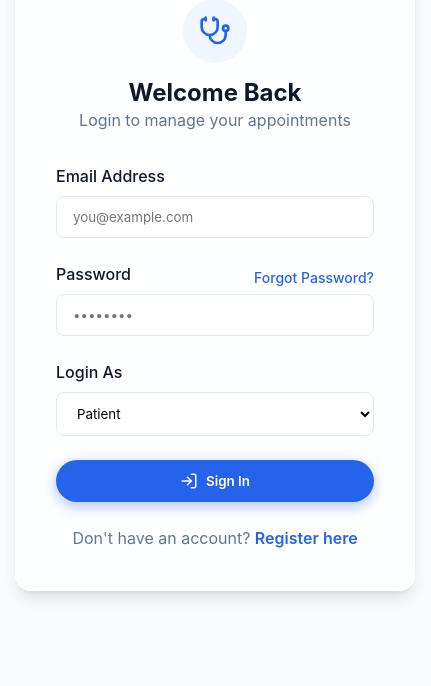
Login page › shows API error messaging for failed login attempts
The image size is (431, 686).
Type "patient@example.com" into the field with placeholder "you@example.com".
click(215, 217); type("patient@example.com")  # box [56,196,374,238]
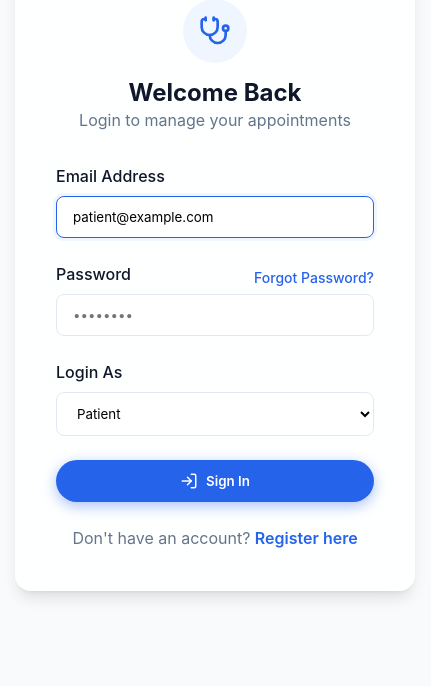
Type "wrong-pass" into the password field with placeholder "••••••••".
click(215, 315); type("wrong-pass")  # box [56,294,374,336]
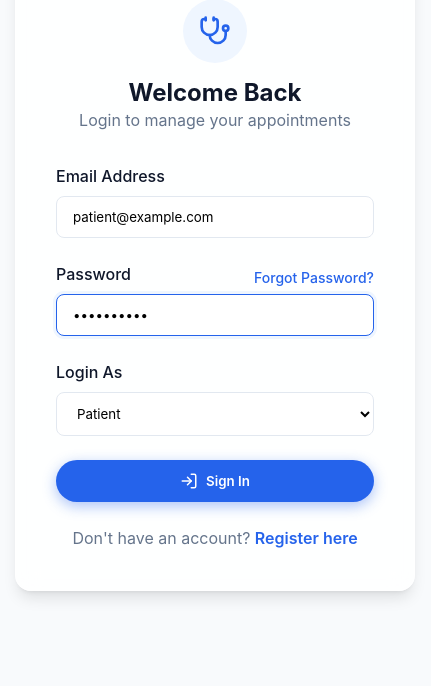
Click the button "Sign In".
click(215, 481)  # box [56,460,374,502]
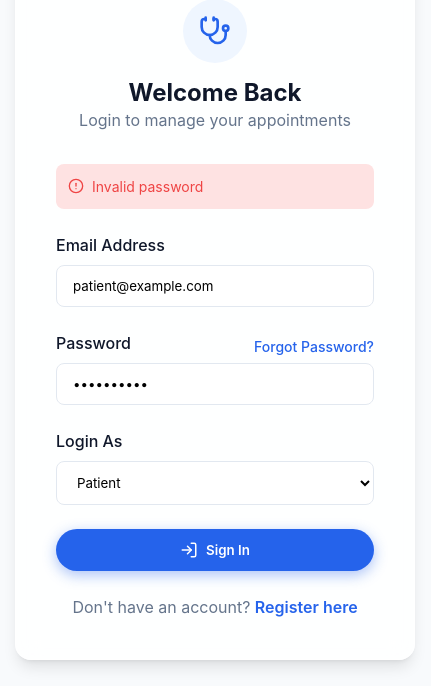
Expected: the text "Invalid password" is shown, [56,164,374,209]
